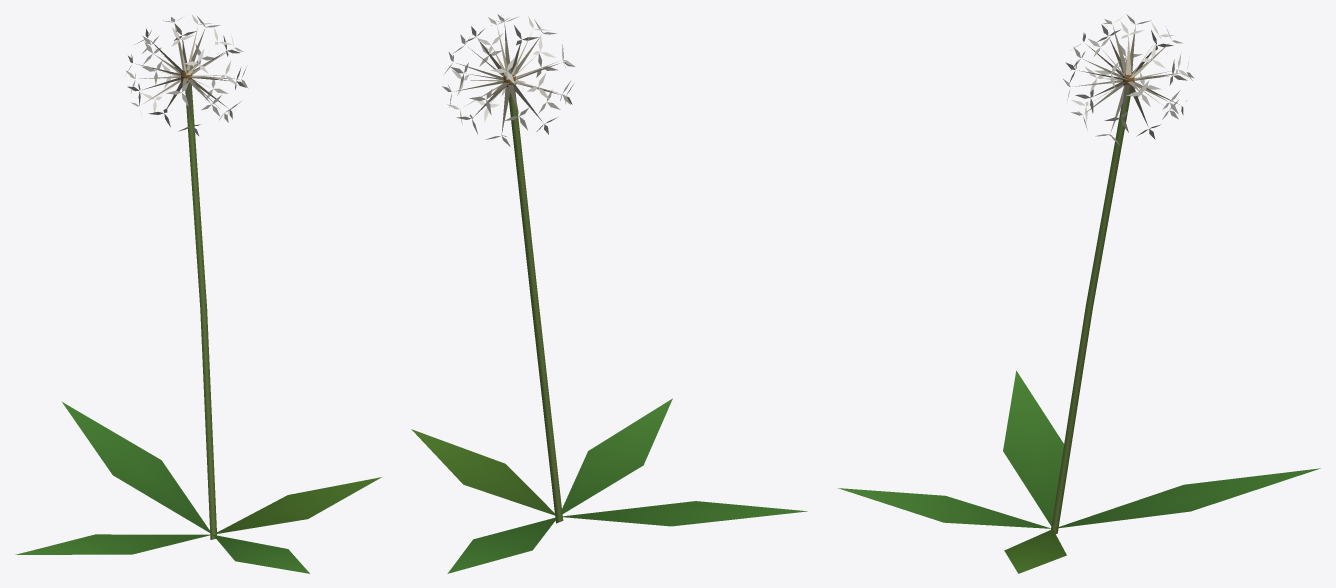
File: dandelion-seedhead-a.lod1.glb
3 views of the same model, side by side, from view 1: azimuth 30°, elevation 25°; view 2: azimuth 150°, elevation 25°; view 3: azimuth 270°, elevation 25° (orthographic). The views are drawn at different scales.
Visible parts, largest first — view 1: dandelion-seedhead-a.lod1; view 2: dandelion-seedhead-a.lod1; view 3: dandelion-seedhead-a.lod1.
Boxes of the visible parts, x1=… form: dandelion-seedhead-a.lod1: x1=15, y1=15, x2=381, y2=573; dandelion-seedhead-a.lod1: x1=411, y1=14, x2=807, y2=573; dandelion-seedhead-a.lod1: x1=838, y1=14, x2=1320, y2=573.
Size of the model in its own units: 0.2818 by 0.3581 by 0.3034.
